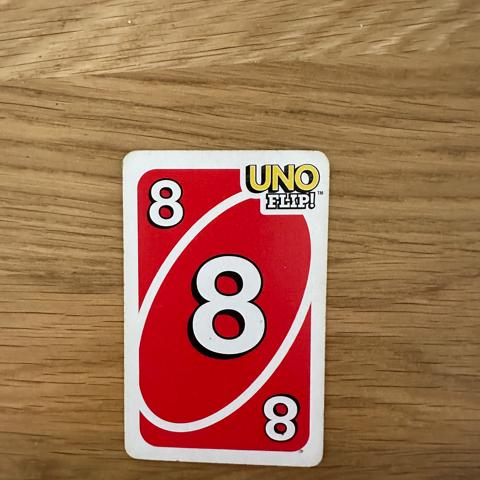4_yellow: (177, 251, 270, 363), (142, 174, 190, 230), (254, 396, 302, 443)
